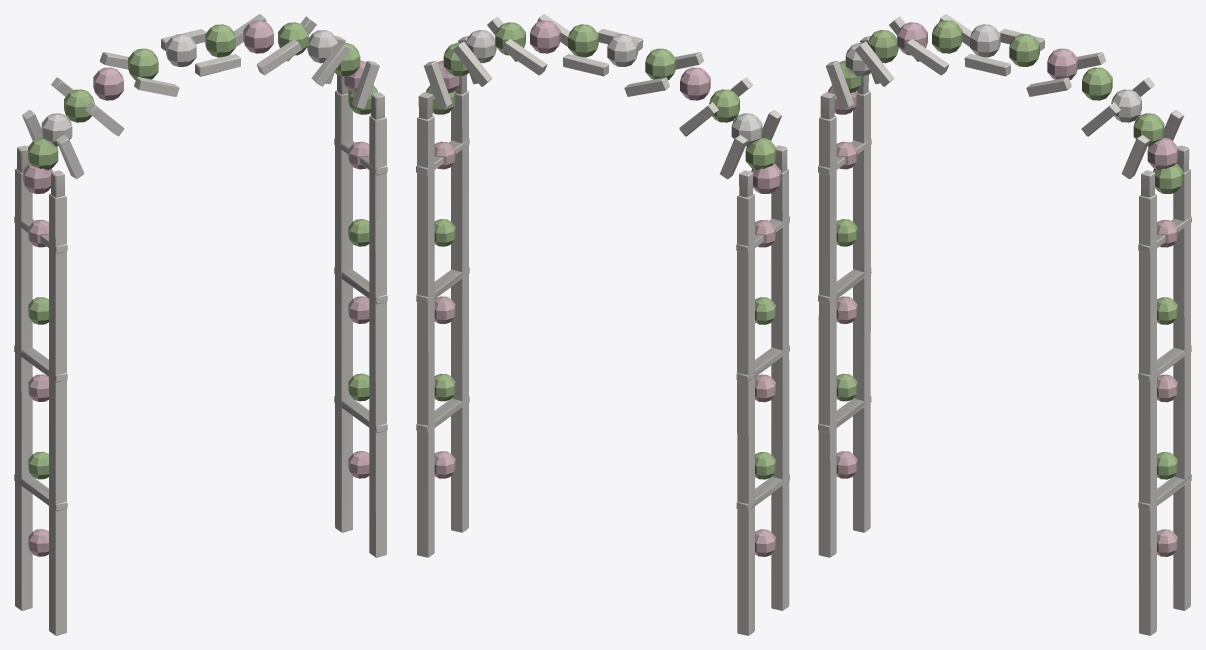
The model's file is arch_low.glb.
3 views of the same model, side by side, from view 1: azimuth 30°, elevation 25°; view 2: azimuth 150°, elevation 25°; view 3: azimuth 330°, elevation 25° (orthographic).
Bounding box in the file's own units: 1.43 × 2.14 × 0.2973.
